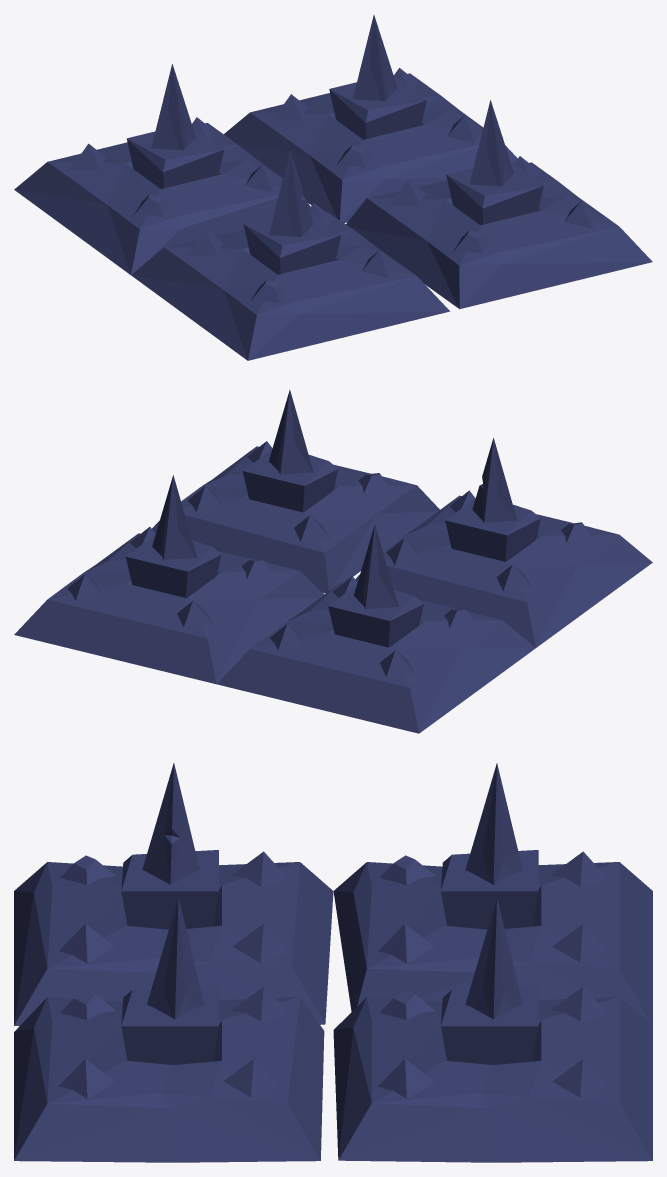
File: Spikes_Drag.FBX
The picture shows the model from 3 angles, top to bottom: view 1: azimuth 30°, elevation 25°; view 2: azimuth 150°, elevation 25°; view 3: azimuth 270°, elevation 25°; orthographic projection. The views are drawn at different scales.
Parts seen in each view (by area): view 1: FixedSpikes001; view 2: FixedSpikes001; view 3: FixedSpikes001.
Boxes of the visible parts, x1,y1,x2,y2 form: FixedSpikes001: (14,15,652,360); FixedSpikes001: (14,389,652,733); FixedSpikes001: (14,763,652,1162).
Bounding box in the file's own units: 40.25 × 17.44 × 40.
